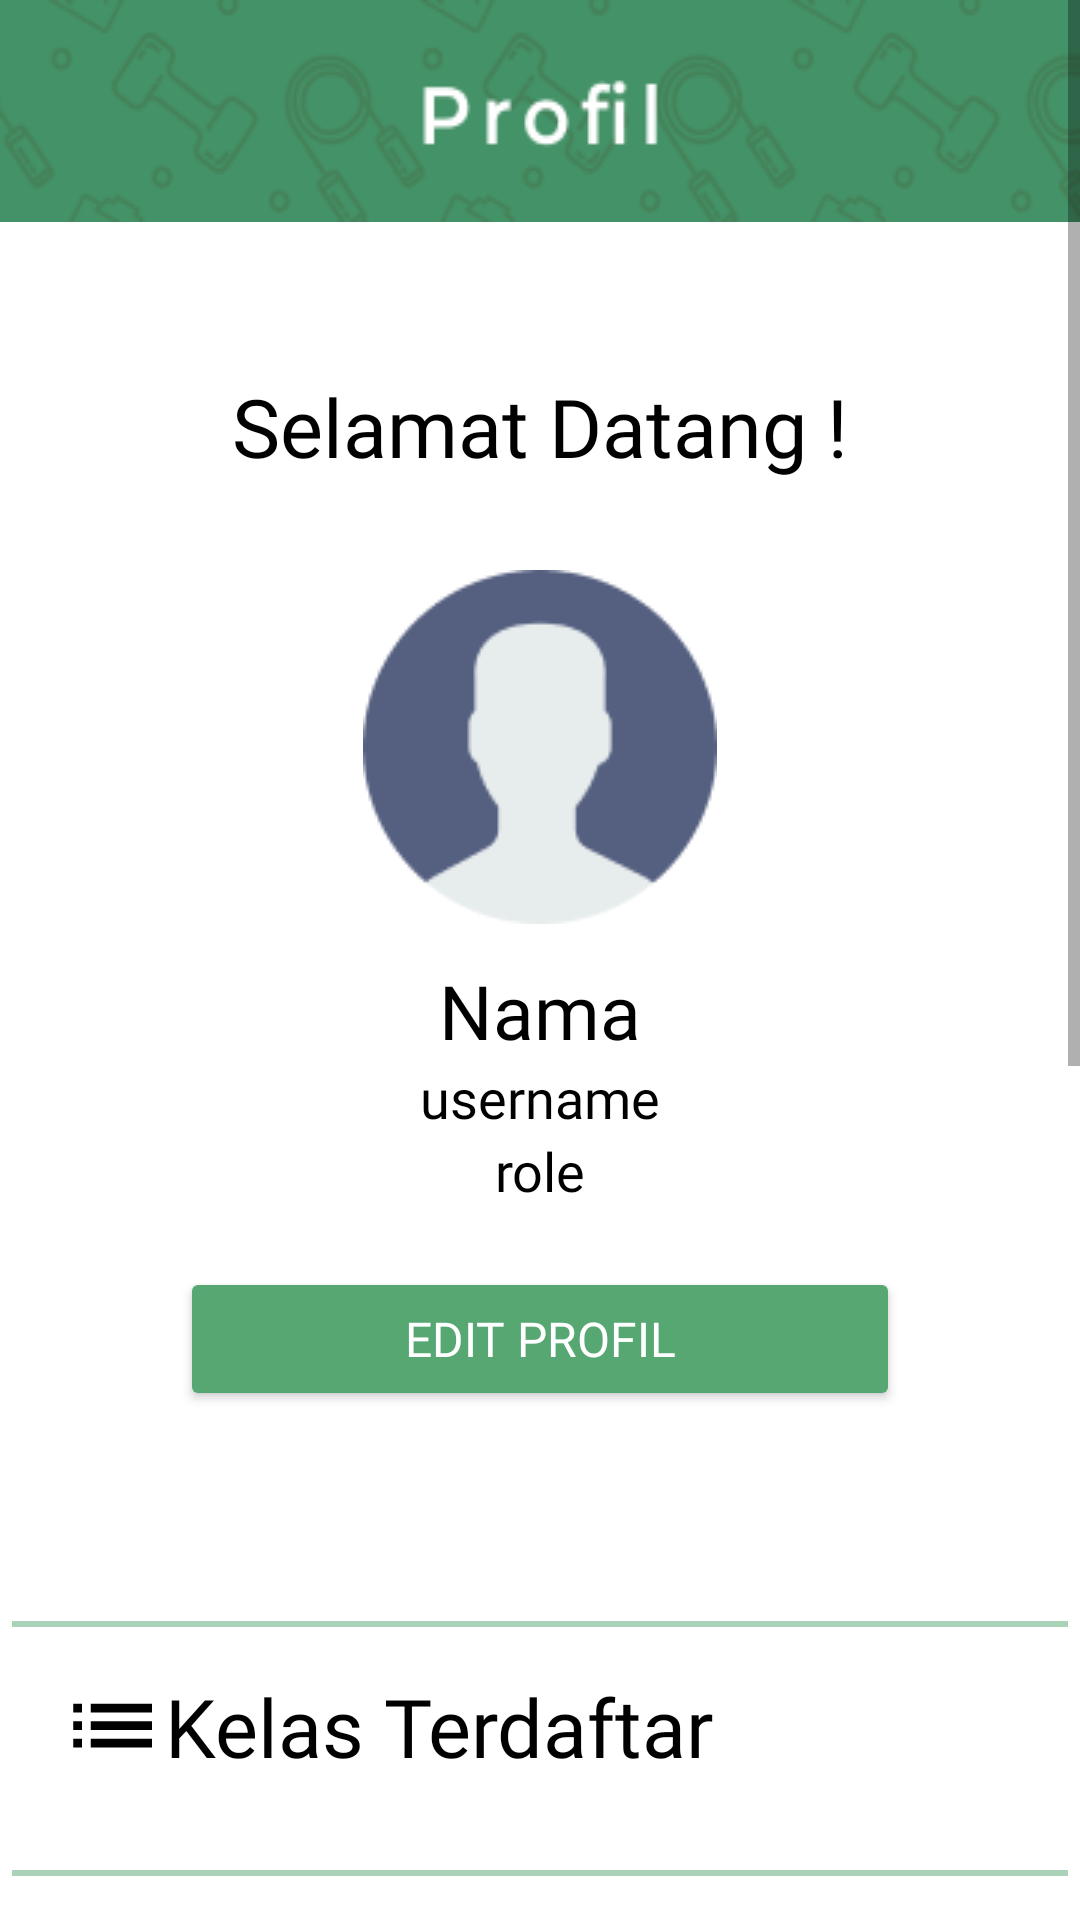

Named icons in this screenshot (1080px×1920px) and their centers, (x,y):
usr: (540,737)
